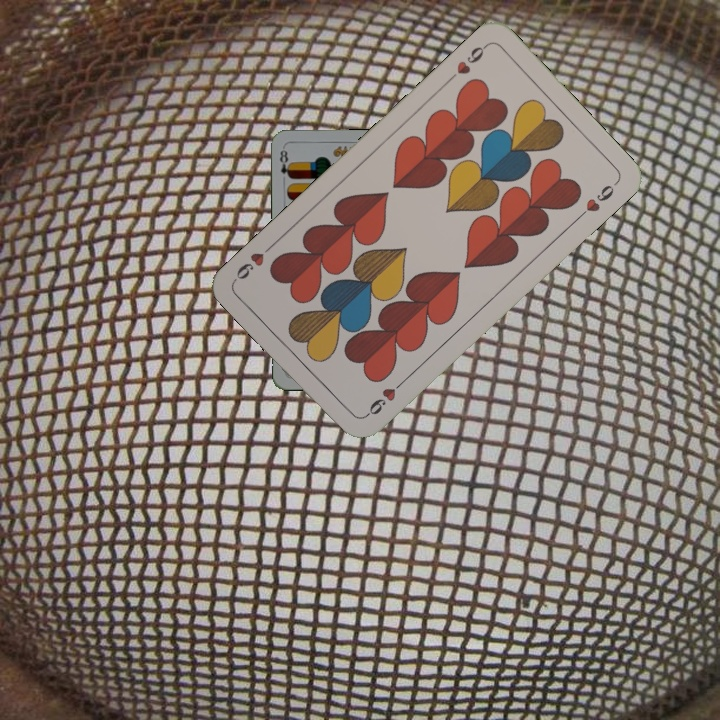E8: (275, 146, 294, 181)
H9: (443, 40, 491, 85), (360, 376, 407, 421)
